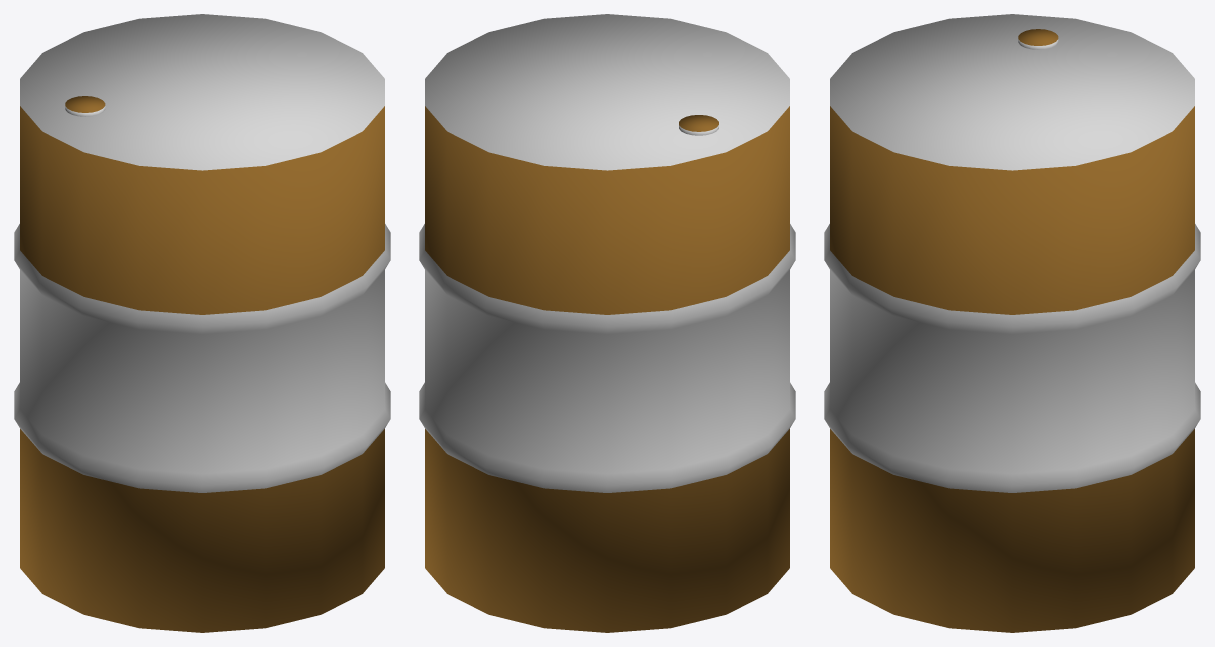
File: Barrel2.fbx
3 renders of one model, left to right at view 1: azimuth 30°, elevation 25°; view 2: azimuth 150°, elevation 25°; view 3: azimuth 270°, elevation 25°, orthographic.
Visible parts, largest first — view 1: Barrel; view 2: Barrel; view 3: Barrel.
Boxes of the visible parts, x1,y1,x2,y2 form: Barrel: (14,14,390,632); Barrel: (419,14,795,632); Barrel: (824,14,1200,632).
Bounding box in the file's own units: 379 × 511 × 374.
